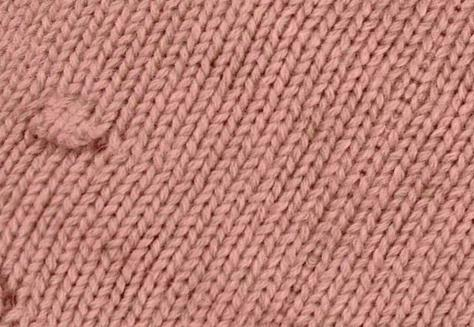knot: (22, 94, 117, 156)
